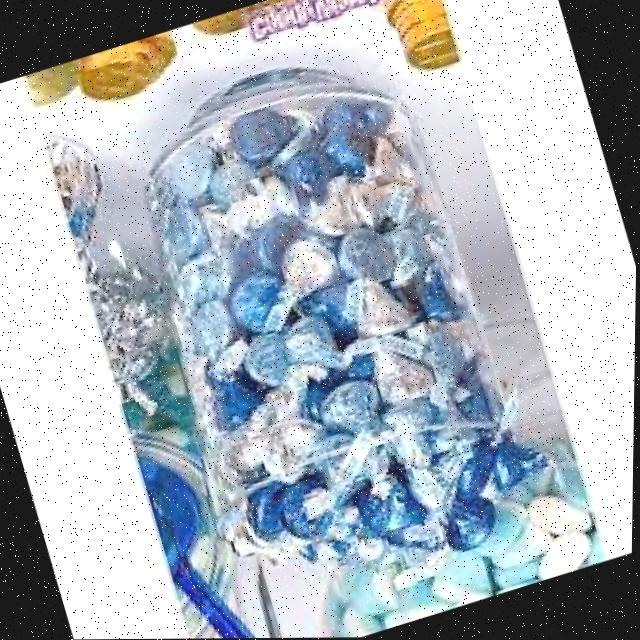kisses: (201, 375, 340, 507), (260, 222, 353, 312), (301, 160, 395, 242), (213, 170, 308, 248), (350, 330, 434, 410), (335, 270, 411, 348), (215, 511, 294, 581)
